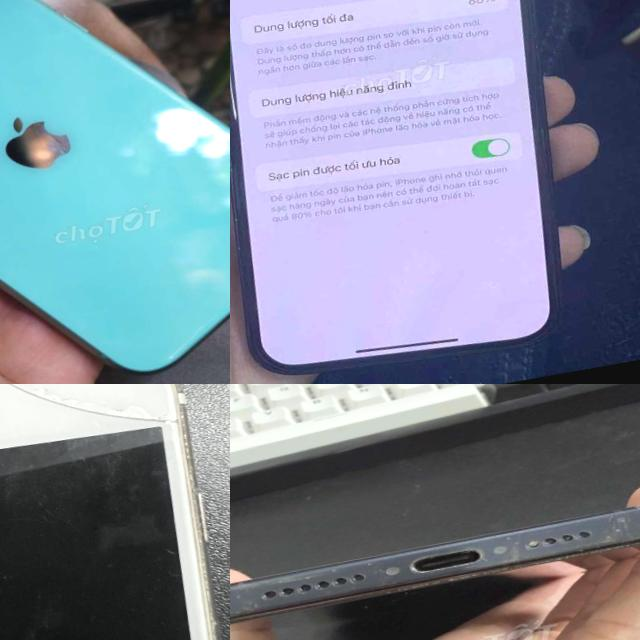gen_11: (0, 0, 230, 371)
gen_14: (230, 0, 616, 384)
gen_15: (230, 470, 640, 640)
gen_7_8: (0, 384, 230, 640)
